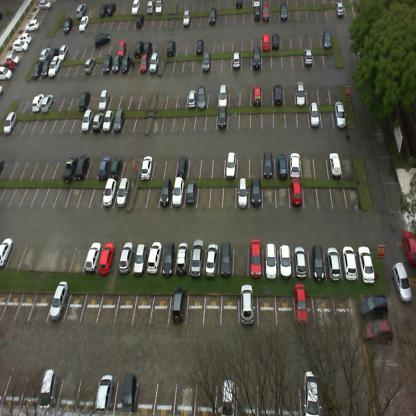car: (38, 364, 60, 416), (301, 367, 322, 415), (392, 258, 412, 304), (46, 290, 69, 326), (95, 373, 115, 414), (292, 282, 310, 326), (121, 372, 138, 416), (354, 240, 374, 277), (360, 294, 388, 320), (168, 291, 189, 325), (145, 240, 165, 275), (240, 280, 255, 326), (324, 242, 342, 280), (364, 322, 394, 344), (293, 243, 311, 277), (82, 240, 100, 273), (340, 241, 356, 278), (221, 378, 237, 415), (278, 244, 295, 278), (310, 242, 326, 278), (160, 241, 177, 274), (174, 243, 191, 276), (203, 241, 218, 278), (170, 176, 186, 210), (188, 242, 204, 276), (263, 243, 279, 277), (113, 177, 129, 210), (156, 178, 172, 211), (132, 240, 148, 273), (217, 242, 233, 275), (100, 178, 116, 210), (96, 244, 113, 274), (248, 240, 263, 274), (62, 155, 79, 185), (0, 235, 15, 268), (118, 242, 134, 272), (403, 230, 415, 268), (73, 154, 91, 179), (288, 180, 304, 207), (288, 147, 302, 177), (235, 179, 249, 209), (90, 106, 106, 132), (96, 154, 112, 180), (328, 148, 342, 177), (276, 148, 289, 179), (101, 107, 115, 135), (112, 107, 126, 135), (332, 101, 347, 127), (3, 109, 18, 135), (109, 155, 125, 179), (184, 179, 196, 210), (138, 155, 153, 179), (263, 147, 275, 177), (249, 179, 261, 209), (77, 89, 91, 114), (295, 78, 306, 109), (81, 107, 94, 133), (174, 153, 188, 177), (224, 150, 236, 178), (97, 87, 110, 112), (41, 92, 55, 115), (196, 84, 208, 109), (272, 84, 284, 108), (311, 102, 322, 128), (31, 93, 44, 114), (94, 32, 111, 48), (218, 82, 228, 109), (216, 107, 227, 131), (30, 61, 43, 81), (48, 56, 61, 76), (139, 51, 150, 73), (83, 56, 96, 74), (252, 44, 261, 70), (12, 38, 28, 52), (187, 87, 197, 109), (77, 14, 89, 32), (303, 46, 313, 67), (322, 29, 332, 50), (0, 65, 13, 81), (40, 58, 50, 78), (134, 39, 144, 59), (202, 50, 211, 72), (335, 0, 346, 18), (58, 43, 69, 61), (26, 18, 40, 32), (39, 45, 51, 61), (102, 54, 112, 73), (120, 54, 130, 73), (149, 51, 158, 72), (280, 1, 289, 22), (62, 17, 73, 34), (182, 8, 191, 28), (130, 0, 142, 15), (111, 55, 122, 71), (207, 6, 216, 25), (47, 47, 60, 60), (262, 1, 270, 22), (232, 50, 241, 68), (262, 32, 270, 52), (76, 3, 87, 17), (167, 40, 176, 57), (272, 32, 280, 51), (117, 40, 127, 55), (146, 0, 156, 15), (154, 0, 164, 14), (106, 2, 116, 16), (6, 54, 20, 64), (3, 60, 15, 71), (18, 32, 31, 42), (38, 1, 52, 10), (143, 40, 153, 52), (253, 6, 261, 21), (135, 14, 145, 26), (196, 40, 204, 54), (99, 4, 107, 18), (234, 0, 243, 10), (252, 0, 260, 8)
